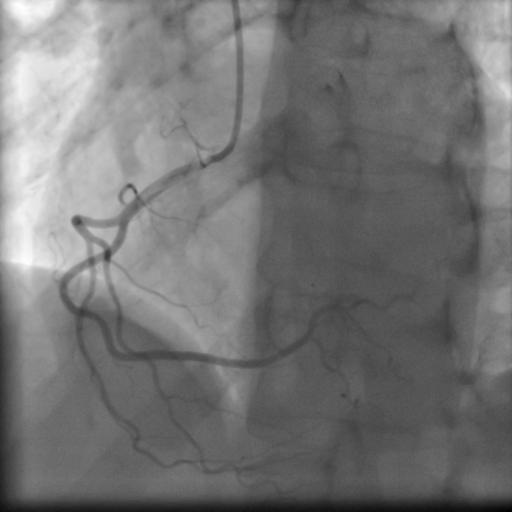Stenosis: (83, 301, 111, 340)
